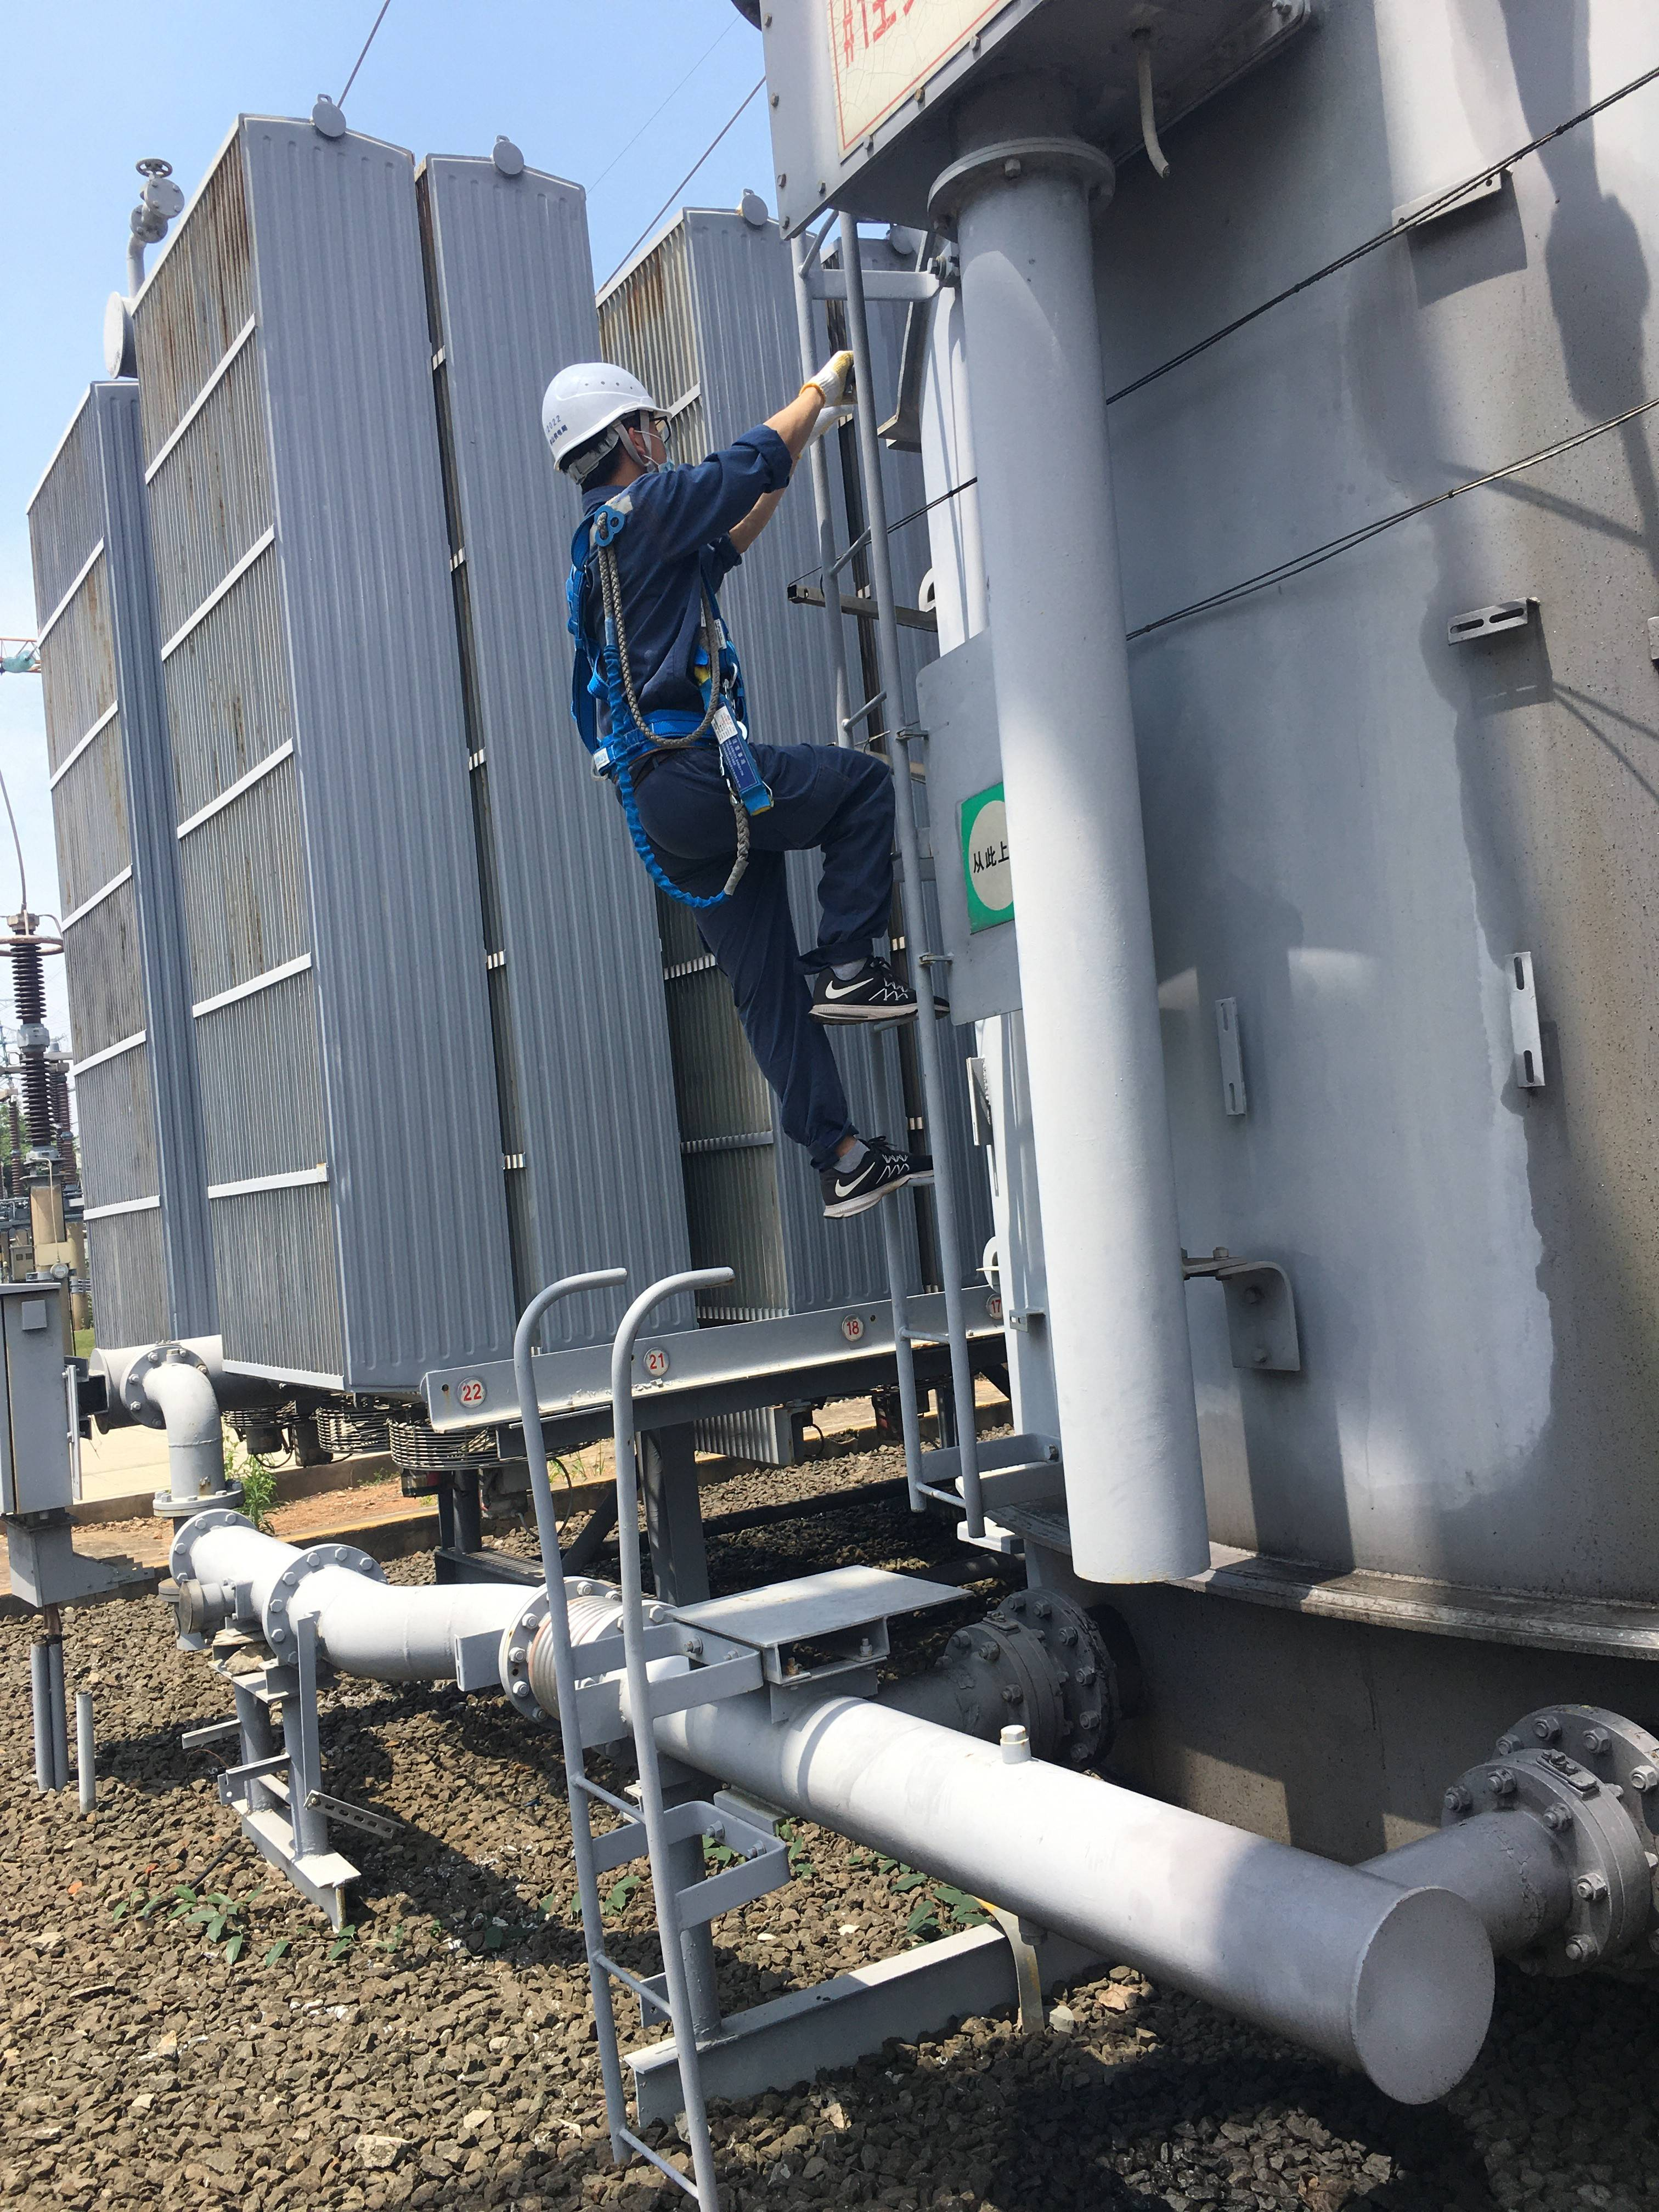downsuit: (622, 732, 908, 1167)
upsuit: (563, 427, 796, 721)
wrongtop: (753, 371, 824, 474)
